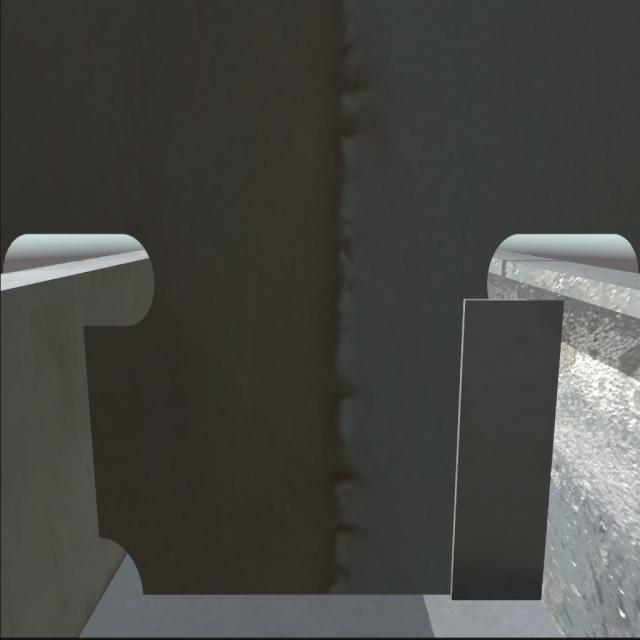fillet_hole: (101, 538, 146, 600)
fillet_yong_jeop_jang: (138, 581, 543, 607)
longi_yong_jeop_jang: (80, 321, 108, 541), (538, 292, 555, 602)
plate_CP01: (462, 300, 544, 598)
